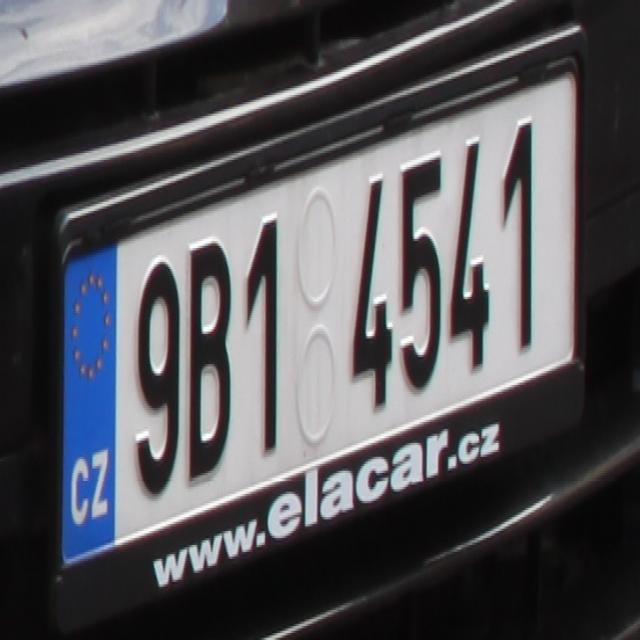1: (244, 213, 281, 457), (501, 123, 538, 355)
4: (346, 177, 396, 410), (451, 140, 492, 366)
5: (398, 148, 442, 392)
9: (132, 260, 182, 496)
B: (186, 227, 232, 487)
